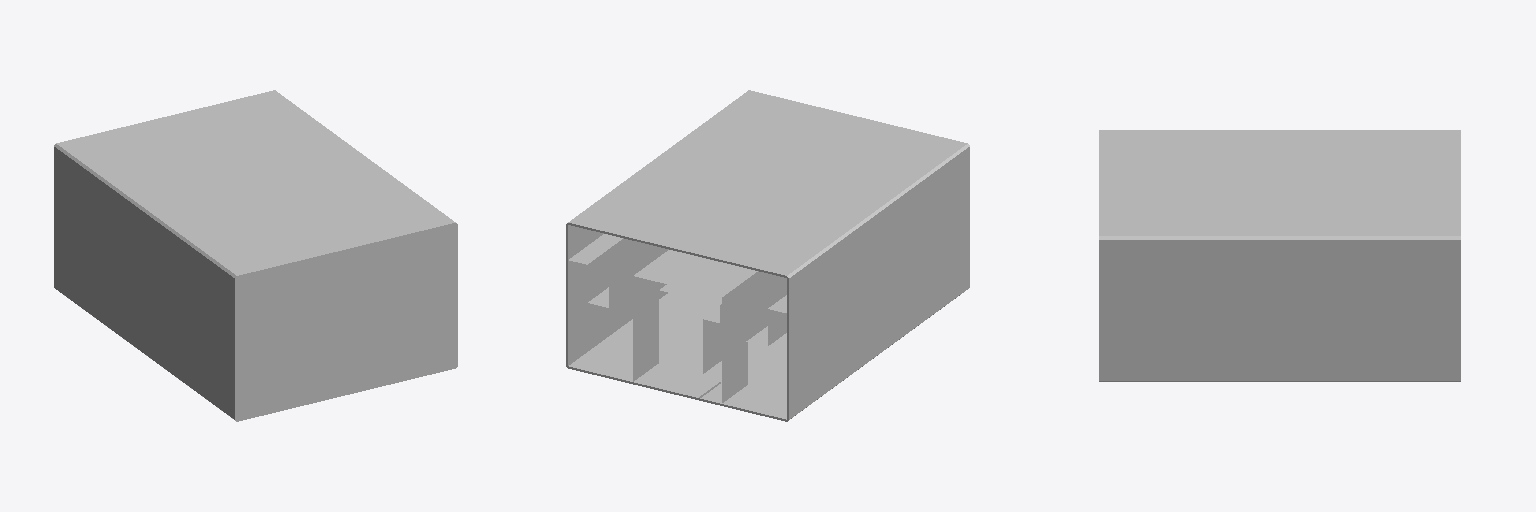
File: nettoye.obj
3 renders of one model, left to right at view 1: azimuth 30°, elevation 25°; view 2: azimuth 150°, elevation 25°; view 3: azimuth 270°, elevation 25°, orthographic.
Bounding box in the file's own units: 580 × 363 × 816.